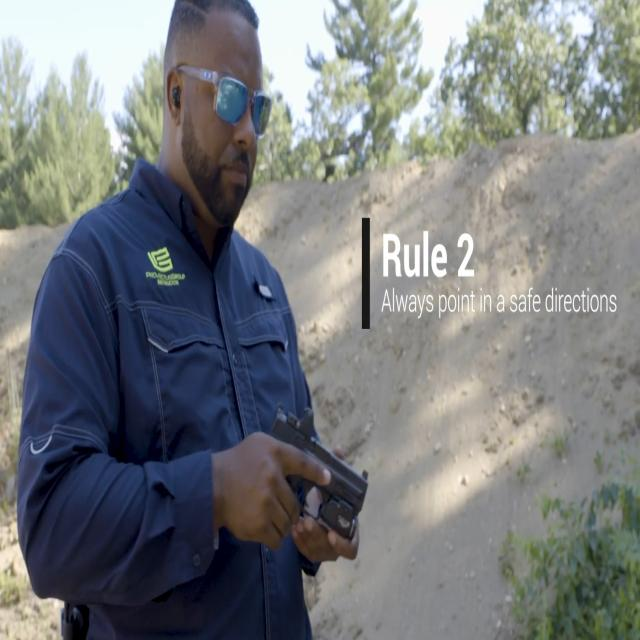Gun_Holder: (262, 383, 370, 556)
Person: (10, 1, 357, 640)
